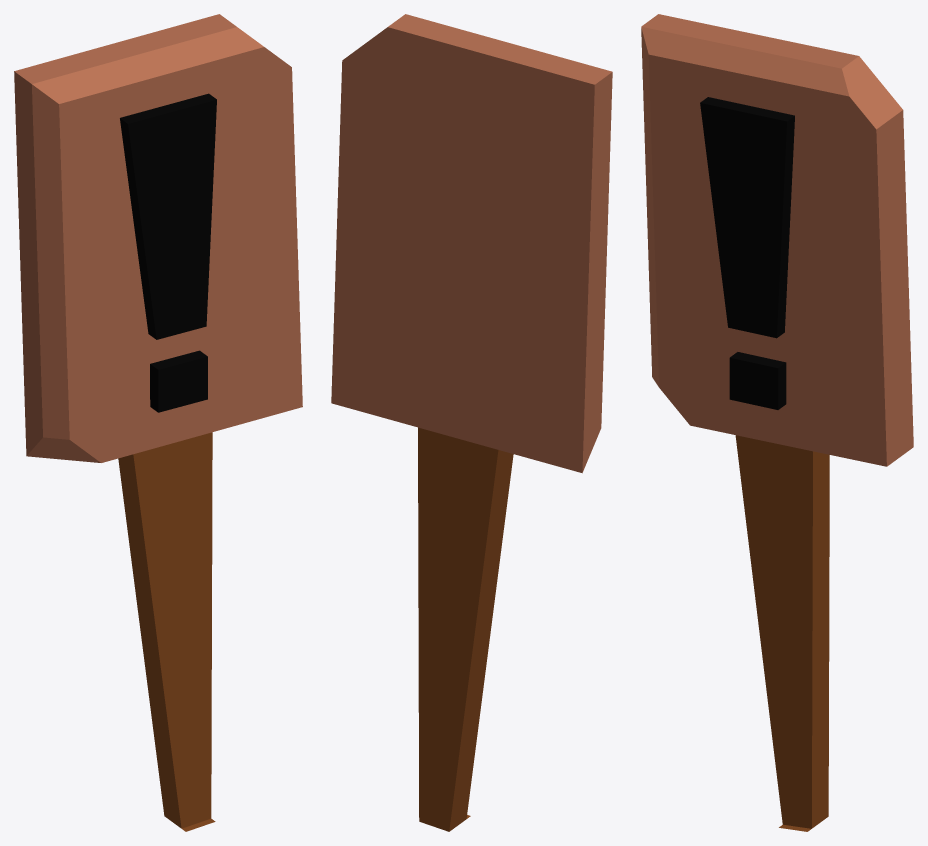
File: Sellers Price Notice 04.fbx
3 views of the same model, side by side, from view 1: azimuth 30°, elevation 25°; view 2: azimuth 150°, elevation 25°; view 3: azimuth 330°, elevation 25° (orthographic). The views are drawn at different scales.
Visible parts, largest first — view 1: Sellers Price Notice 04; view 2: Sellers Price Notice 04; view 3: Sellers Price Notice 04.
Part boxes in pixels (left/top/right/bottom): Sellers Price Notice 04: left=14, top=14, right=302, bottom=831; Sellers Price Notice 04: left=331, top=14, right=612, bottom=831; Sellers Price Notice 04: left=641, top=14, right=913, bottom=831.
Bounding box in the file's own units: 31.91 × 91.71 × 7.54.
